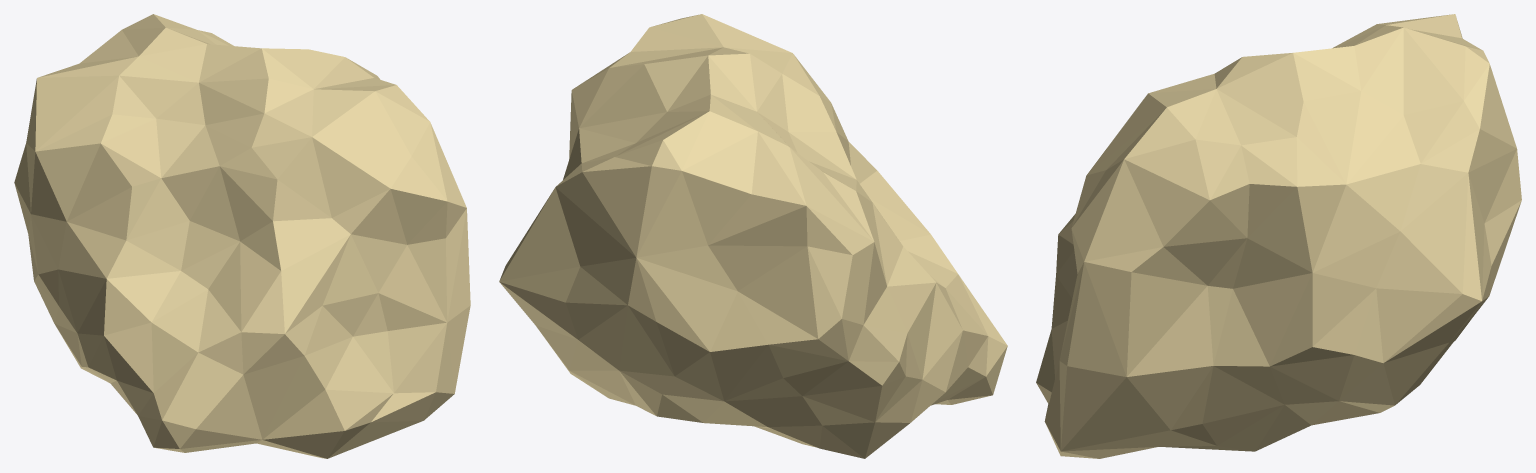
File: Asteroid (72).fbx
3 views of the same model, side by side, from view 1: azimuth 30°, elevation 25°; view 2: azimuth 150°, elevation 25°; view 3: azimuth 270°, elevation 25° (orthographic). The views are drawn at different scales.
Visible parts, largest first — view 1: Asteroid134; view 2: Asteroid134; view 3: Asteroid134.
Part boxes in pixels (box(x1,y1,x2,y2)): Asteroid134: box(14, 14, 470, 458); Asteroid134: box(499, 14, 1007, 458); Asteroid134: box(1036, 14, 1521, 458).
Size of the model in its own units: 210 by 218 by 239.
